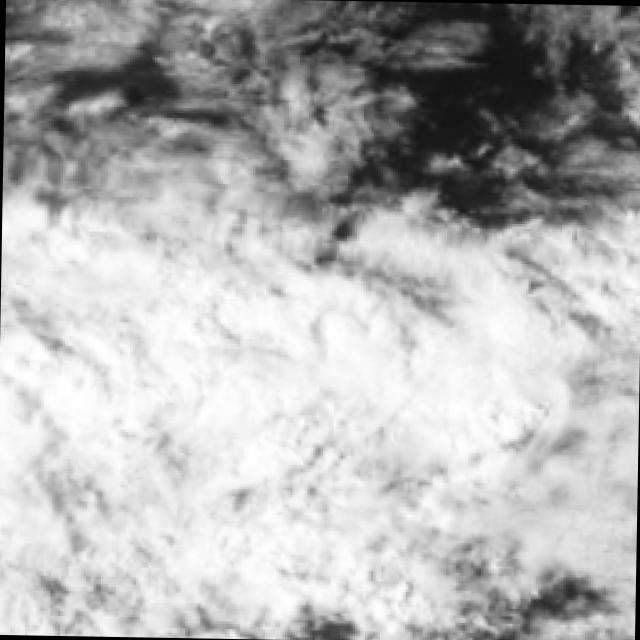CB: (32, 320, 490, 442)
